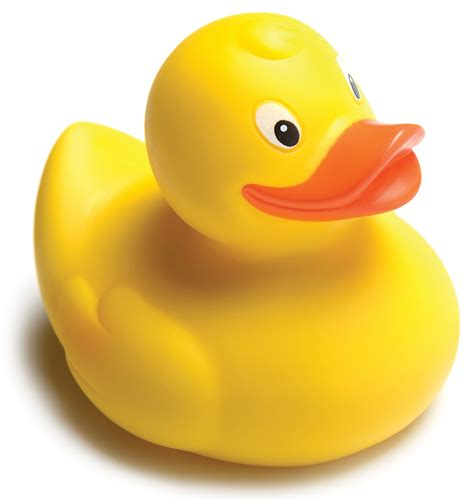???: (32, 12, 461, 468)
